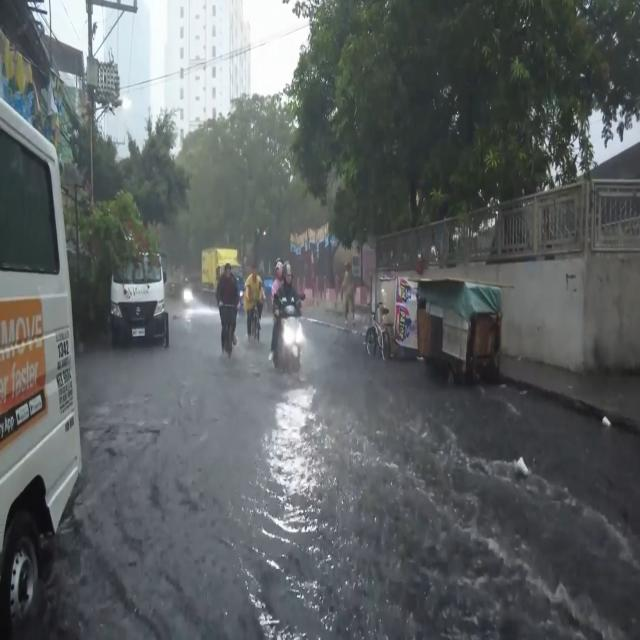half: (282, 260, 294, 288)
